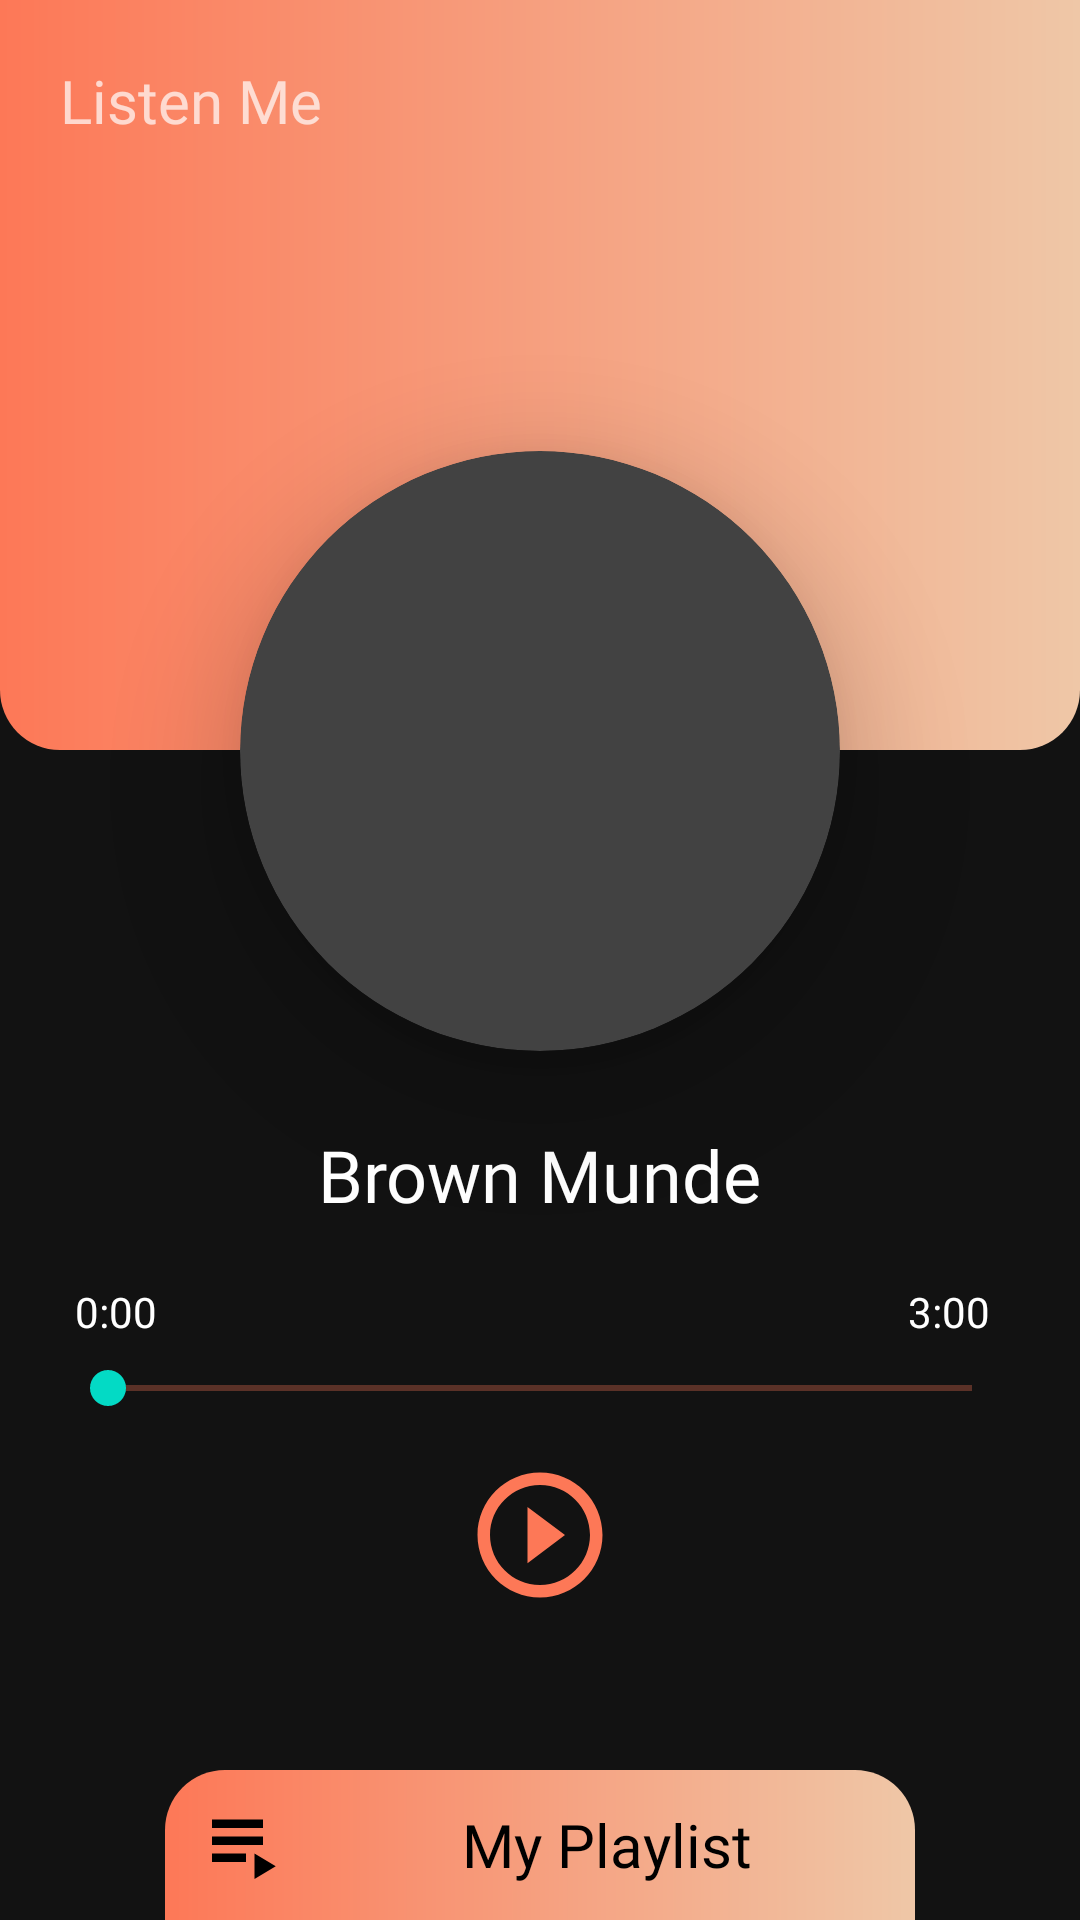

Point at icon controls on the screen. Image size 1080px×1920px, points as point (x, y).
play: point (540, 1535)
